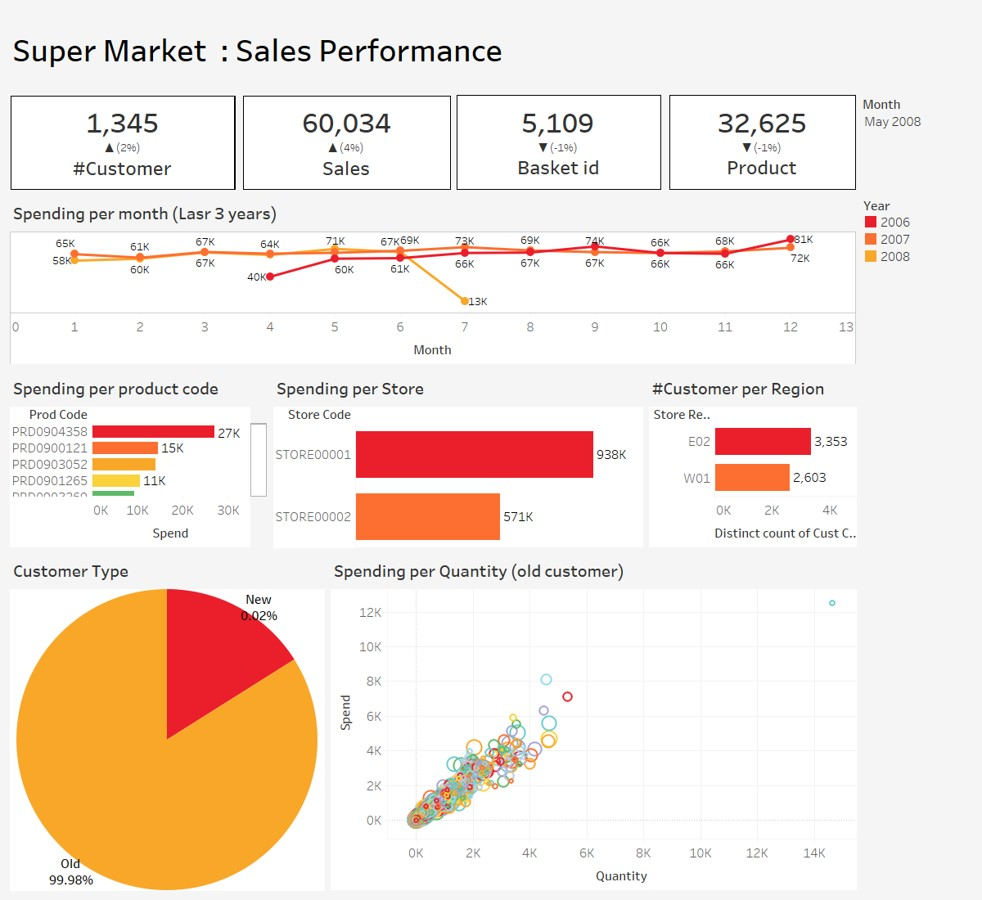

Layout of this report page (visuals, bound fields, positions):
{"tool":"tableau","page":{"name":"Dashboard 1","canvas":[1200,1100],"ordinal":0},"visuals":[{"type":"worksheet","box":[0,0,1200,1100]},{"type":"worksheet","box":[8,8,1184,104]},{"type":"worksheet","param":"horz","box":[8,112,1184,561]},{"type":"worksheet","param":"horz","box":[8,112,1042,561]},{"type":"worksheet","box":[8,112,1042,561]},{"type":"worksheet","title":"Total customer","mark":"Automatic","rows":["SHOP_DATE"],"box":[8,112,283.9,123.7]},{"type":"worksheet","title":"Total Sales","mark":"Automatic","rows":["SHOP_DATE"],"box":[291.9,112,262.5,123.7]},{"type":"worksheet","title":"Basket id","mark":"Automatic","rows":["SHOP_DATE"],"box":[554.4,112,259.5,123.7]},{"type":"worksheet","title":"product","mark":"Automatic","rows":["SHOP_DATE"],"box":[813.9,112,236.1,123.7]},{"type":"worksheet","box":[1050,112,142,561]},{"type":"worksheet","param":"vert","box":[1050,112,142,123.4]},{"type":"worksheet","param":"[Parameters].[Parameter 1]","box":[1050,112,142,56]},{"type":"worksheet","param":"vert","box":[1050,235.4,142,437.6]},{"type":"worksheet","title":"compare 2 year","mark":"Automatic","rows":["SPEND","SPEND"],"cols":["SHOP_DATE"],"param":"[federated.1e5jfc30t0qaqj1ex05z71jxvxvc].[yr:Shop Date (copy)_158723740781091635","box":[1050,235.4,142,93]},{"type":"worksheet","title":"compare 2 year","mark":"Automatic","rows":["SPEND","SPEND"],"cols":["SHOP_DATE"],"box":[8,235.7,1042,213.9]},{"type":"worksheet","title":"compare 2 year (2)","mark":"Bar","rows":["PROD_CODE"],"cols":["SPEND"],"box":[8,449.7,322,223.3]},{"type":"worksheet","title":"compare 2 year (3)","mark":"Bar","rows":["STORE_CODE"],"cols":["SPEND"],"box":[330,449.7,459.5,223.3]},{"type":"worksheet","title":"Sheet 4 (3)","mark":"Bar","rows":["STORE_REGION"],"cols":["CUST_CODE"],"box":[789.5,449.7,260.5,223.3]},{"type":"worksheet","title":"cust","mark":"Pie","box":[8,673,392,419]},{"type":"worksheet","title":"Sheet 17","mark":"Automatic","rows":["SPEND"],"cols":["QUANTITY"],"box":[400,673,650,419]},{"type":"worksheet","box":[1050,673,142,419]}]}

Visuals, with their boxes in screenshot pixels (x1, y1, x2, y2), scaled from the page's 1200x1100 canvas onto the 982x900 screenshot:
worksheet: [left=0, top=0, right=981, bottom=899]
worksheet: [left=7, top=7, right=975, bottom=92]
worksheet: [left=7, top=92, right=975, bottom=551]
worksheet: [left=7, top=92, right=859, bottom=551]
worksheet: [left=7, top=92, right=859, bottom=551]
"Total customer" worksheet: [left=7, top=92, right=239, bottom=193]
"Total Sales" worksheet: [left=239, top=92, right=454, bottom=193]
"Basket id" worksheet: [left=454, top=92, right=666, bottom=193]
"product" worksheet: [left=666, top=92, right=859, bottom=193]
worksheet: [left=859, top=92, right=975, bottom=551]
worksheet: [left=859, top=92, right=975, bottom=193]
worksheet: [left=859, top=92, right=975, bottom=137]
worksheet: [left=859, top=193, right=975, bottom=551]
"compare 2 year" worksheet: [left=859, top=193, right=975, bottom=269]
"compare 2 year" worksheet: [left=7, top=193, right=859, bottom=368]
"compare 2 year (2)" worksheet (Bar marks): [left=7, top=368, right=270, bottom=551]
"compare 2 year (3)" worksheet (Bar marks): [left=270, top=368, right=646, bottom=551]
"Sheet 4 (3)" worksheet (Bar marks): [left=646, top=368, right=859, bottom=551]
"cust" worksheet (Pie marks): [left=7, top=551, right=327, bottom=893]
"Sheet 17" worksheet: [left=327, top=551, right=859, bottom=893]
worksheet: [left=859, top=551, right=975, bottom=893]
